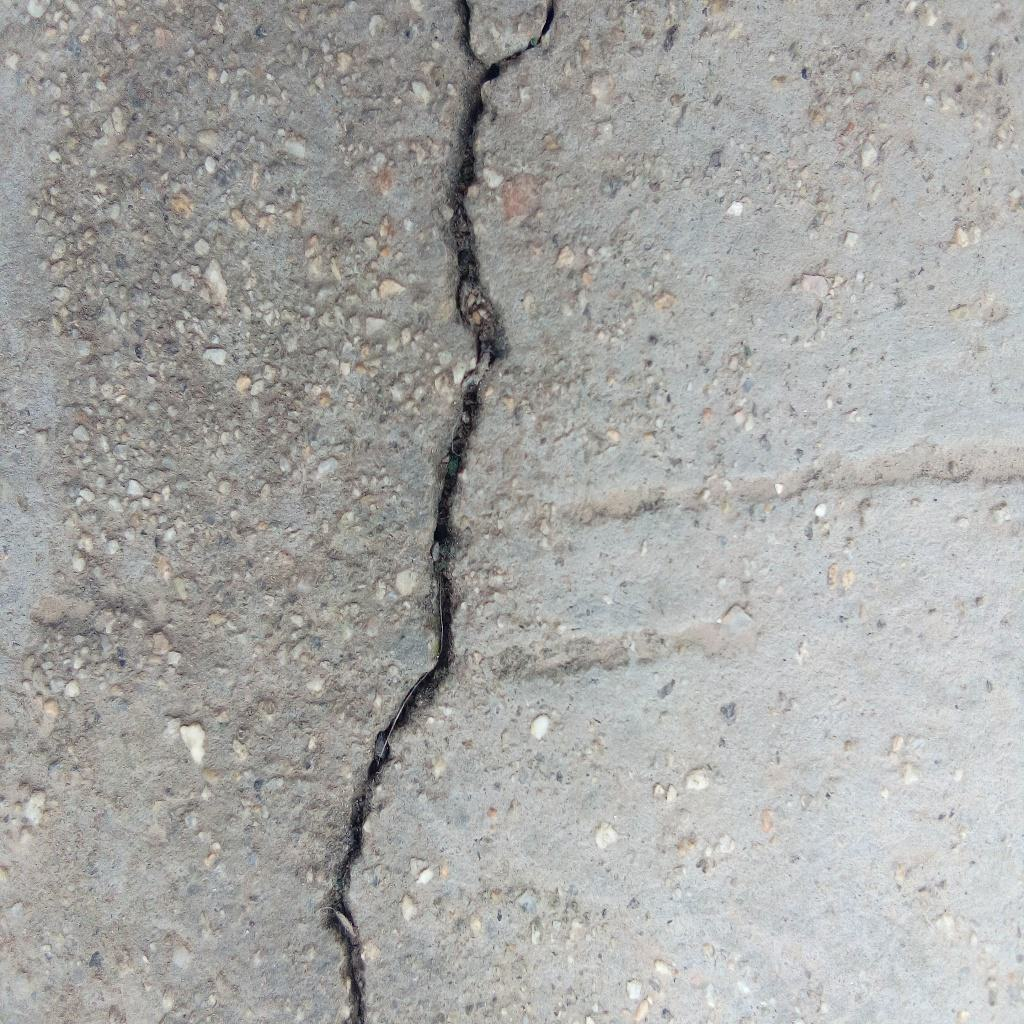Crack: (319, 1, 561, 1024)
